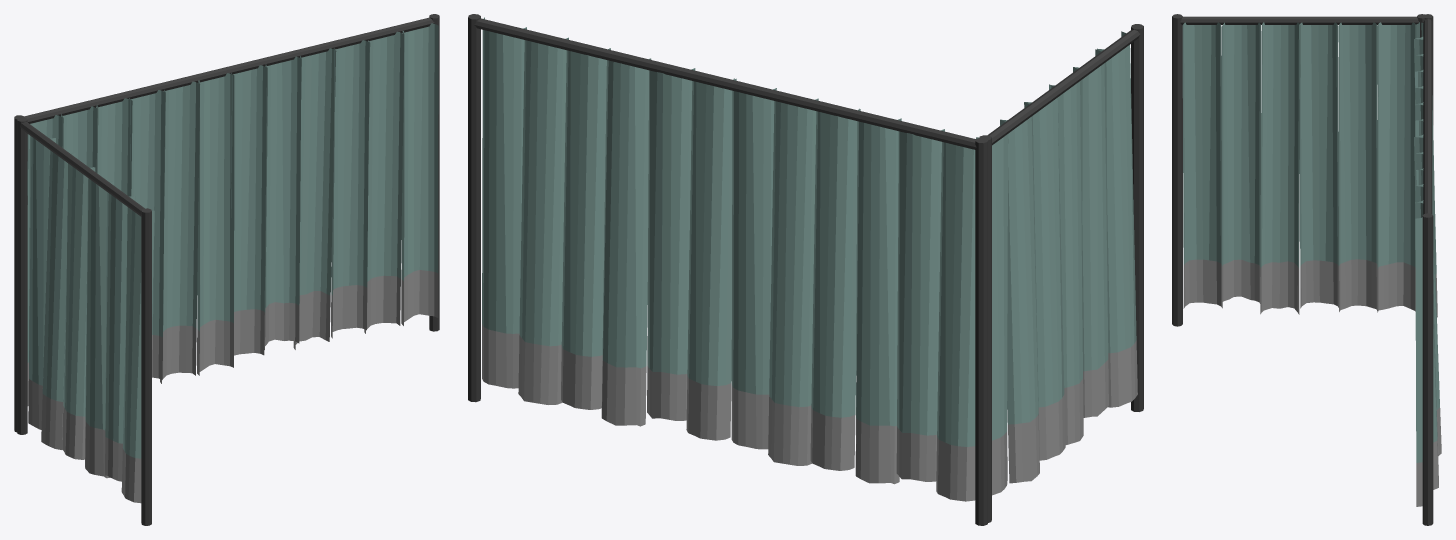
File: Laboratorio.fbx_Cortina.fbx
3 renders of one model, left to right at view 1: azimuth 30°, elevation 25°; view 2: azimuth 150°, elevation 25°; view 3: azimuth 270°, elevation 25°, orthographic. The views are drawn at different scales.
Visible parts, largest first — view 1: CortinaLonga.002, Cortina.002; view 2: CortinaLonga.002, Cortina.002; view 3: Cortina.002, CortinaLonga.002.
Boxes of the visible parts, left/top/right/bottom form: CortinaLonga.002: left=14, top=14, right=439, bottom=432; Cortina.002: left=17, top=118, right=154, bottom=525; CortinaLonga.002: left=468, top=14, right=987, bottom=525; Cortina.002: left=976, top=24, right=1143, bottom=522; Cortina.002: left=1172, top=14, right=1424, bottom=326; CortinaLonga.002: left=1414, top=14, right=1441, bottom=525.
Bounding box in the file's own units: 314 × 219 × 173.
